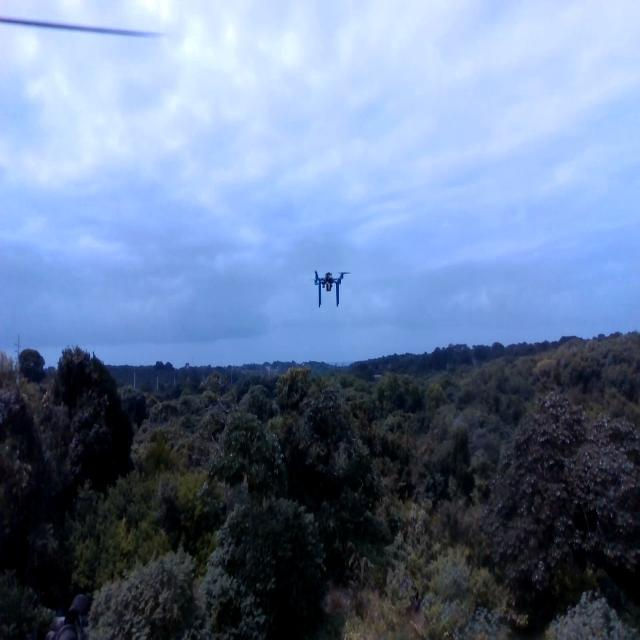-uav-: (309, 261, 354, 311)
